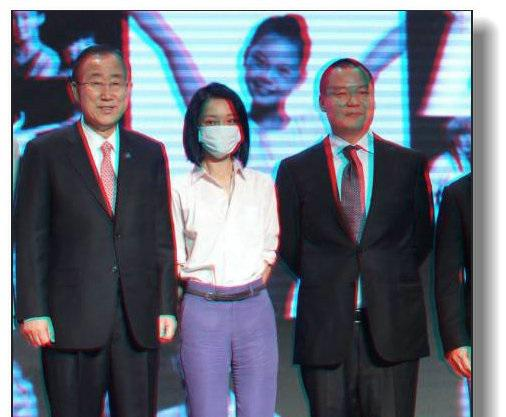NONE: (81, 73, 129, 124), (246, 57, 292, 106), (330, 84, 371, 130)
OK: (199, 110, 245, 156)
